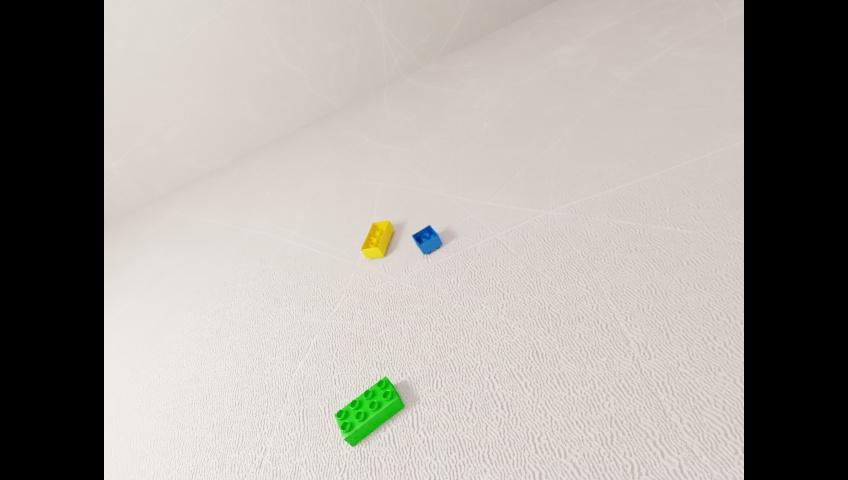2x2_blue: (411, 224, 441, 254)
4x2_green: (334, 375, 404, 446)
4x2_yellow: (361, 221, 394, 260)
